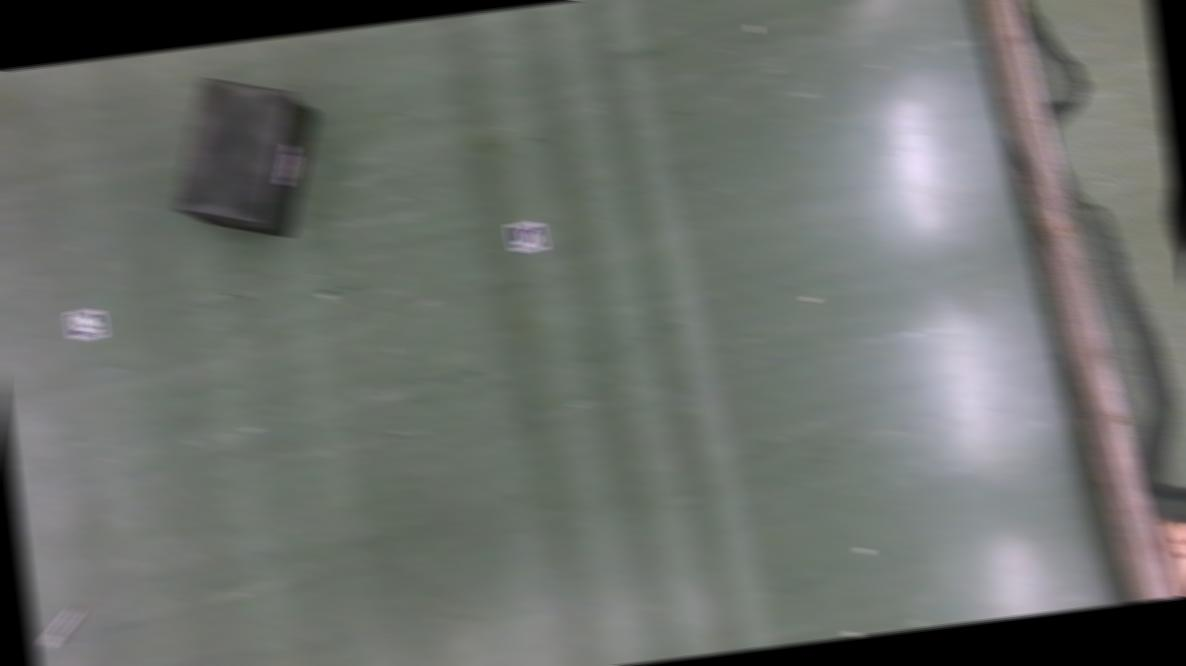probes: (36, 601, 88, 645)
rako: (157, 64, 334, 250)
